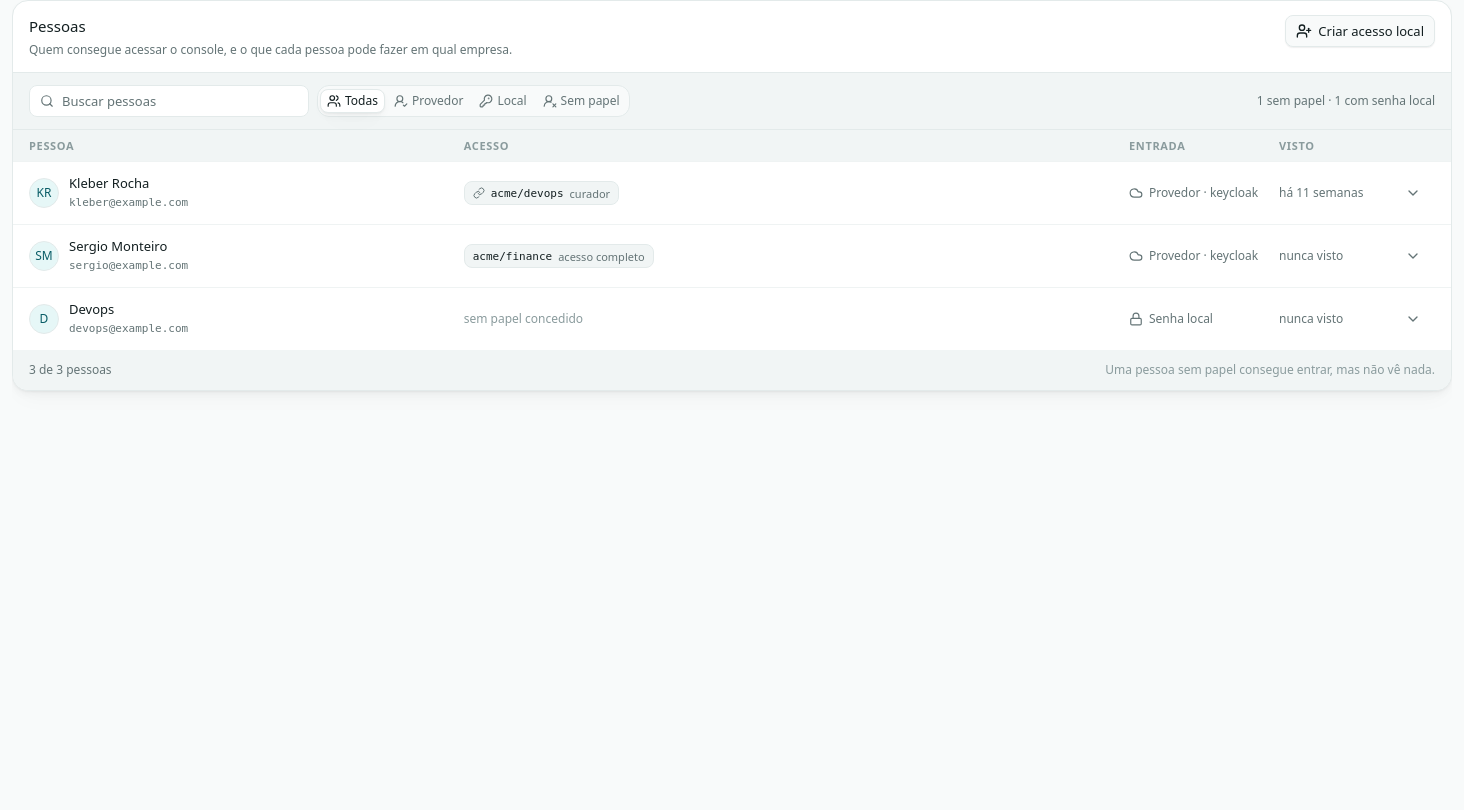
Test case: people administration › groups access by scope and opens the role matrix for detail
Check: the text "Acesso" is shown, box top-left (464, 138), bottom-right (509, 152)
Check: the text "Entrada" is shown, box top-left (1129, 138), bottom-right (1186, 152)
Click the button that starts with "Sergio Monteiro": (118, 246) top-left (13, 225), bottom-right (1451, 287)
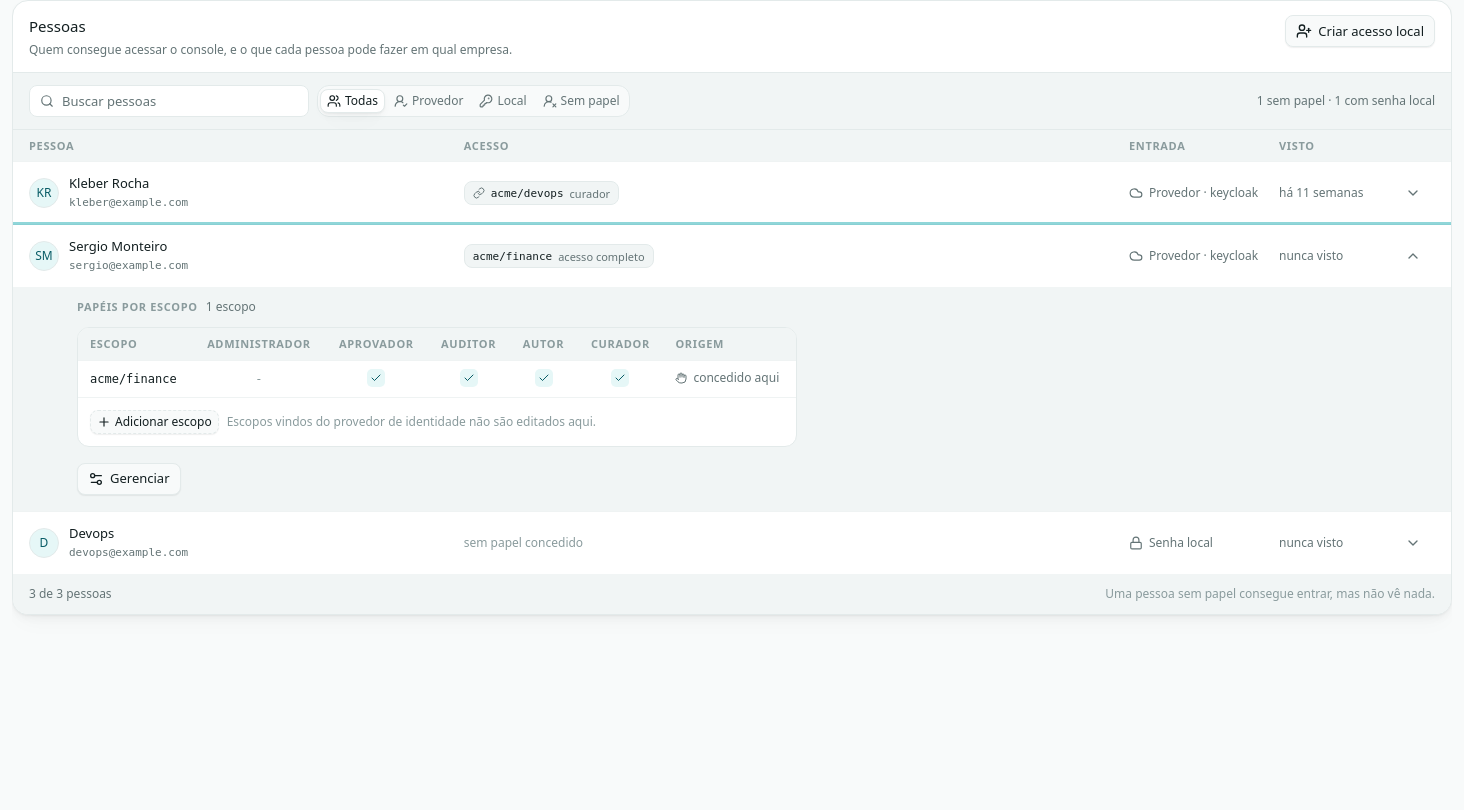
Check: the text "Papéis por escopo" is shown, box top-left (77, 300), bottom-right (198, 314)
Check: the column heading "Aprovador" is shown, box top-left (325, 328), bottom-right (428, 360)
Check: the column heading "Administrador" is shown, box top-left (193, 328), bottom-right (325, 360)
